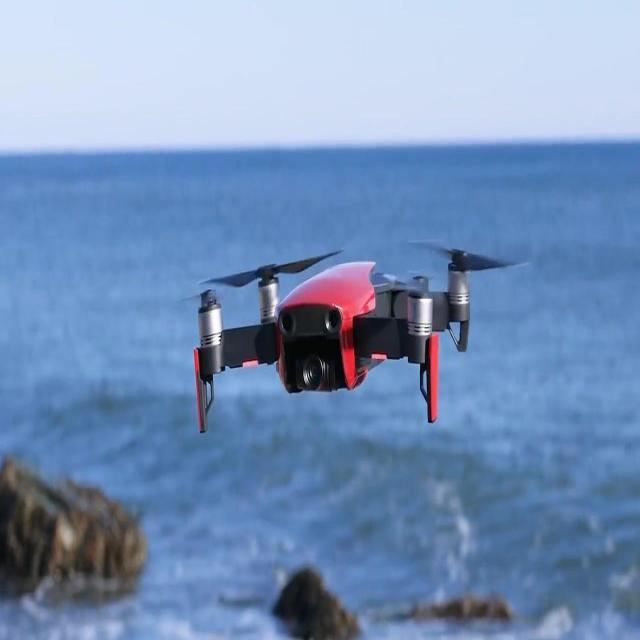UAV: (182, 242, 521, 433)
